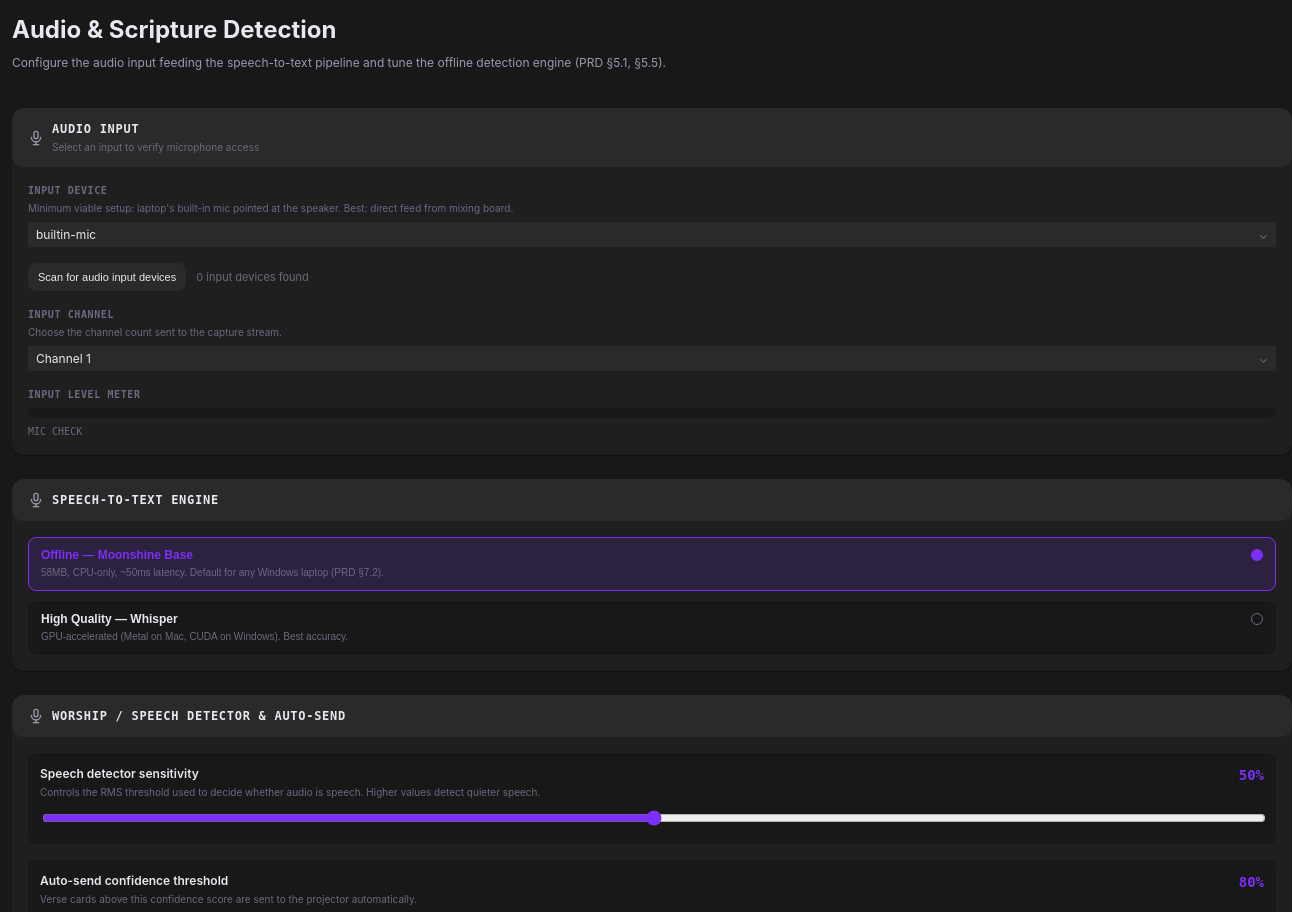
Test: Audio Detection settings › offers a manual scan and disables it while capturing
Click the button "Scan for audio input devices" at [107, 277], box [28,263,186,291]
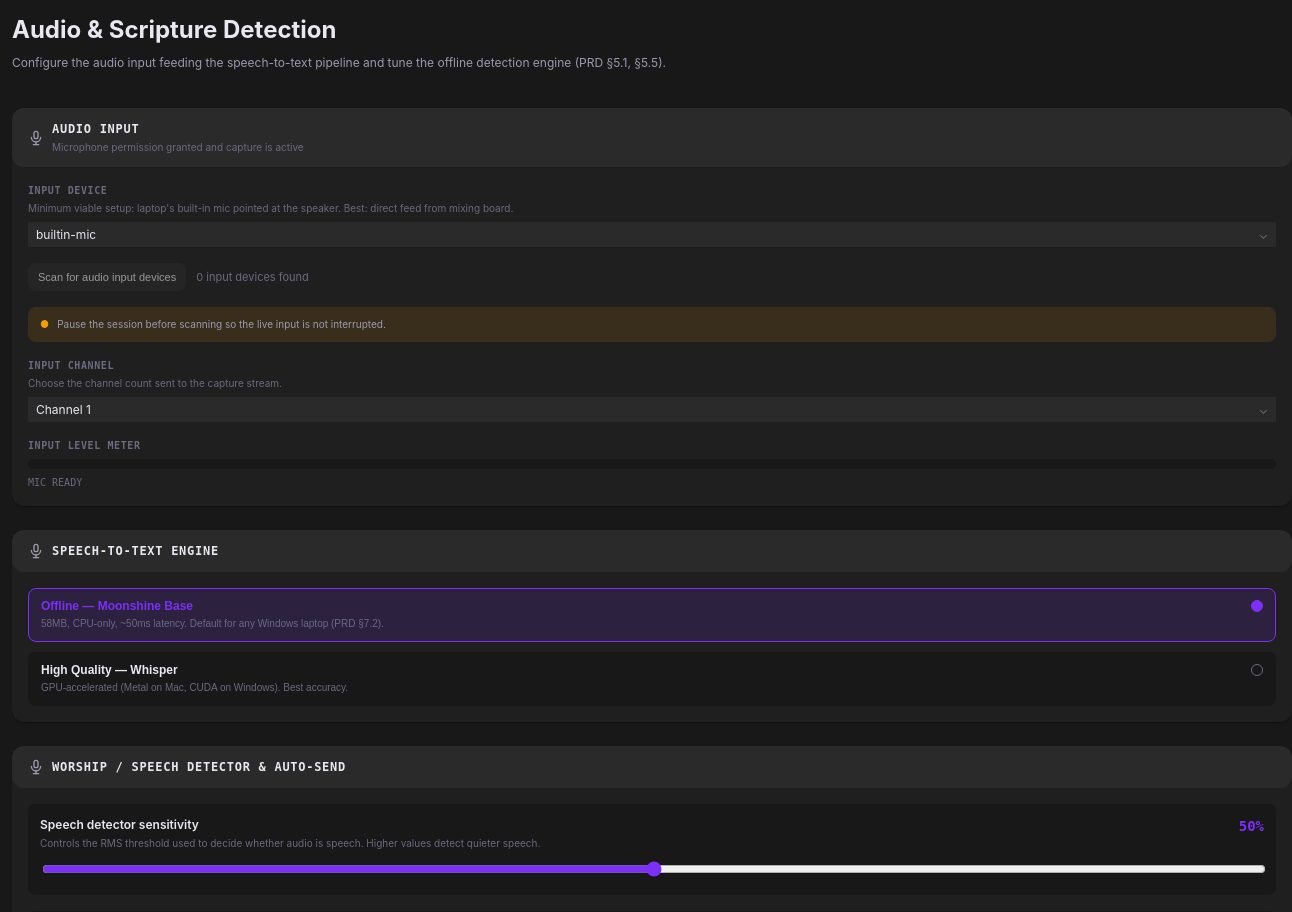
Expected: the button "Scan for audio input devices" is disabled, [28,263,186,291]
